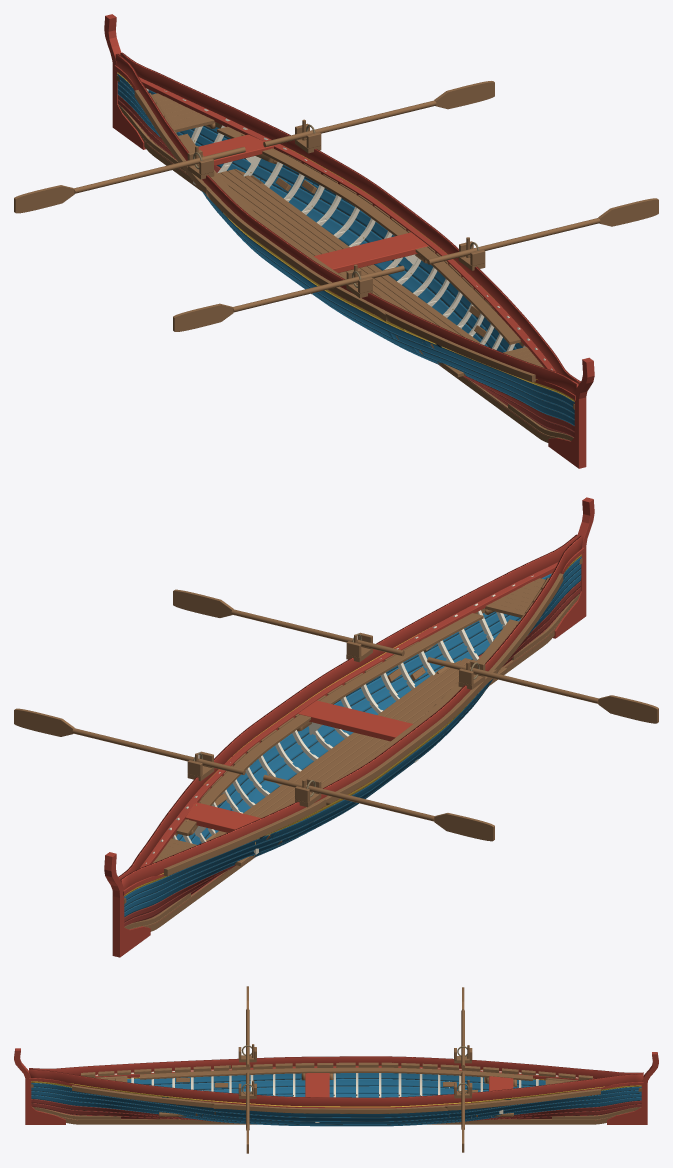
The model's file is midalji.glb.
3 views of the same model, one above another, from view 1: azimuth 30°, elevation 25°; view 2: azimuth 150°, elevation 25°; view 3: azimuth 270°, elevation 25° (orthographic). The views are drawn at different scales.
Visible parts, largest first — view 1: washboards-173, washboards-74, catwalks-204, rubbing-strake-203, thwarts-352, bow-post-5, gunwale-76, planking-130, planking-136, floorboards-338, floorboards-337, gunwale-77 (+22 smaller); view 2: washboards-173, washboards-74, catwalks-204, rubbing-strake-203, thwarts-352, stern-post-6, planking-130, planking-136, gunwale-76, gunwale-75, bow-post-5, floorboards-337 (+24 smaller); view 3: washboards-173, washboards-74, catwalks-105, keel-0, planking-57, gunwale-175, planking-37, planking-51, planking-156, planking-150, gunwale-174, planking-136 (+30 smaller).
Boxes of the visible parts, box(x1,y1,x2,y2) form: washboards-173: box(120, 52, 580, 384); washboards-74: box(115, 54, 578, 394); catwalks-204: box(217, 126, 520, 344); rubbing-strake-203: box(139, 77, 555, 371); thwarts-352: box(314, 232, 428, 272); bow-post-5: box(548, 357, 594, 468); gunwale-76: box(206, 187, 385, 321); planking-130: box(260, 179, 488, 346); planking-136: box(282, 181, 485, 336); floorboards-338: box(234, 169, 482, 344); floorboards-337: box(227, 169, 461, 335); gunwale-77: box(382, 309, 535, 382); washboards-173: box(118, 534, 578, 879); washboards-74: box(120, 536, 583, 889); catwalks-204: box(176, 613, 483, 835); rubbing-strake-203: box(140, 562, 558, 867); thwarts-352: box(298, 700, 412, 741); stern-post-6: box(104, 852, 150, 957); planking-130: box(206, 668, 439, 838); planking-136: box(219, 670, 418, 810); gunwale-76: box(321, 669, 496, 805); gunwale-75: box(163, 797, 328, 876); bow-post-5: box(553, 497, 594, 638); floorboards-337: box(225, 658, 470, 833); washboards-173: box(29, 1069, 643, 1106); washboards-74: box(29, 1056, 643, 1078); catwalks-105: box(140, 1067, 532, 1080); keel-0: box(80, 1119, 592, 1124); planking-57: box(183, 1073, 485, 1083); gunwale-175: box(214, 1103, 455, 1113); planking-37: box(202, 1086, 467, 1094); planking-51: box(221, 1079, 449, 1088); planking-156: box(183, 1105, 490, 1117); planking-150: box(221, 1112, 449, 1121); gunwale-174: box(443, 1088, 600, 1110); planking-136: box(202, 1114, 470, 1124).
Bounding box in the file's own units: 4.81 × 1.06 × 8.3.
